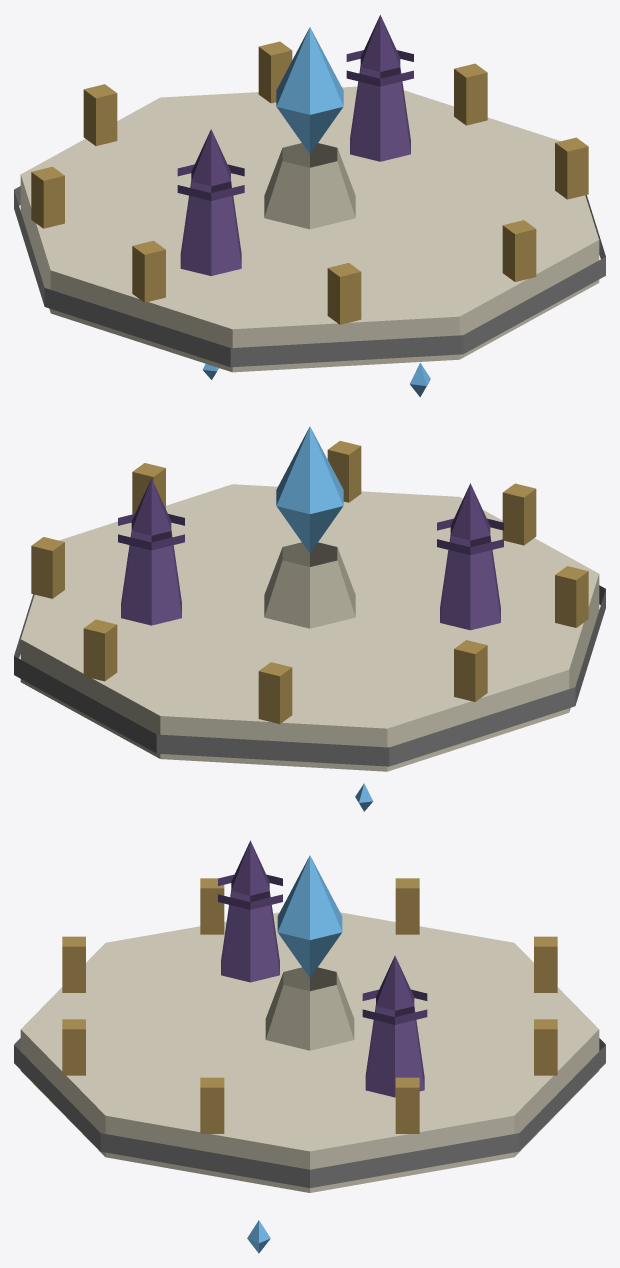
The model's file is tempest-dais.obj.
3 views of the same model, one above another, from view 1: azimuth 30°, elevation 25°; view 2: azimuth 150°, elevation 25°; view 3: azimuth 270°, elevation 25° (orthographic). The views are drawn at different scales.
Parts seen in each view (by area): view 1: tempest-dais; view 2: tempest-dais; view 3: tempest-dais.
Part boxes in pixels (x1,y1,x2,y2): tempest-dais: (14,15,605,397); tempest-dais: (14,426,605,811); tempest-dais: (14,840,605,1253).
Bounding box in the file's own units: 3.48 × 2.33 × 3.48.
